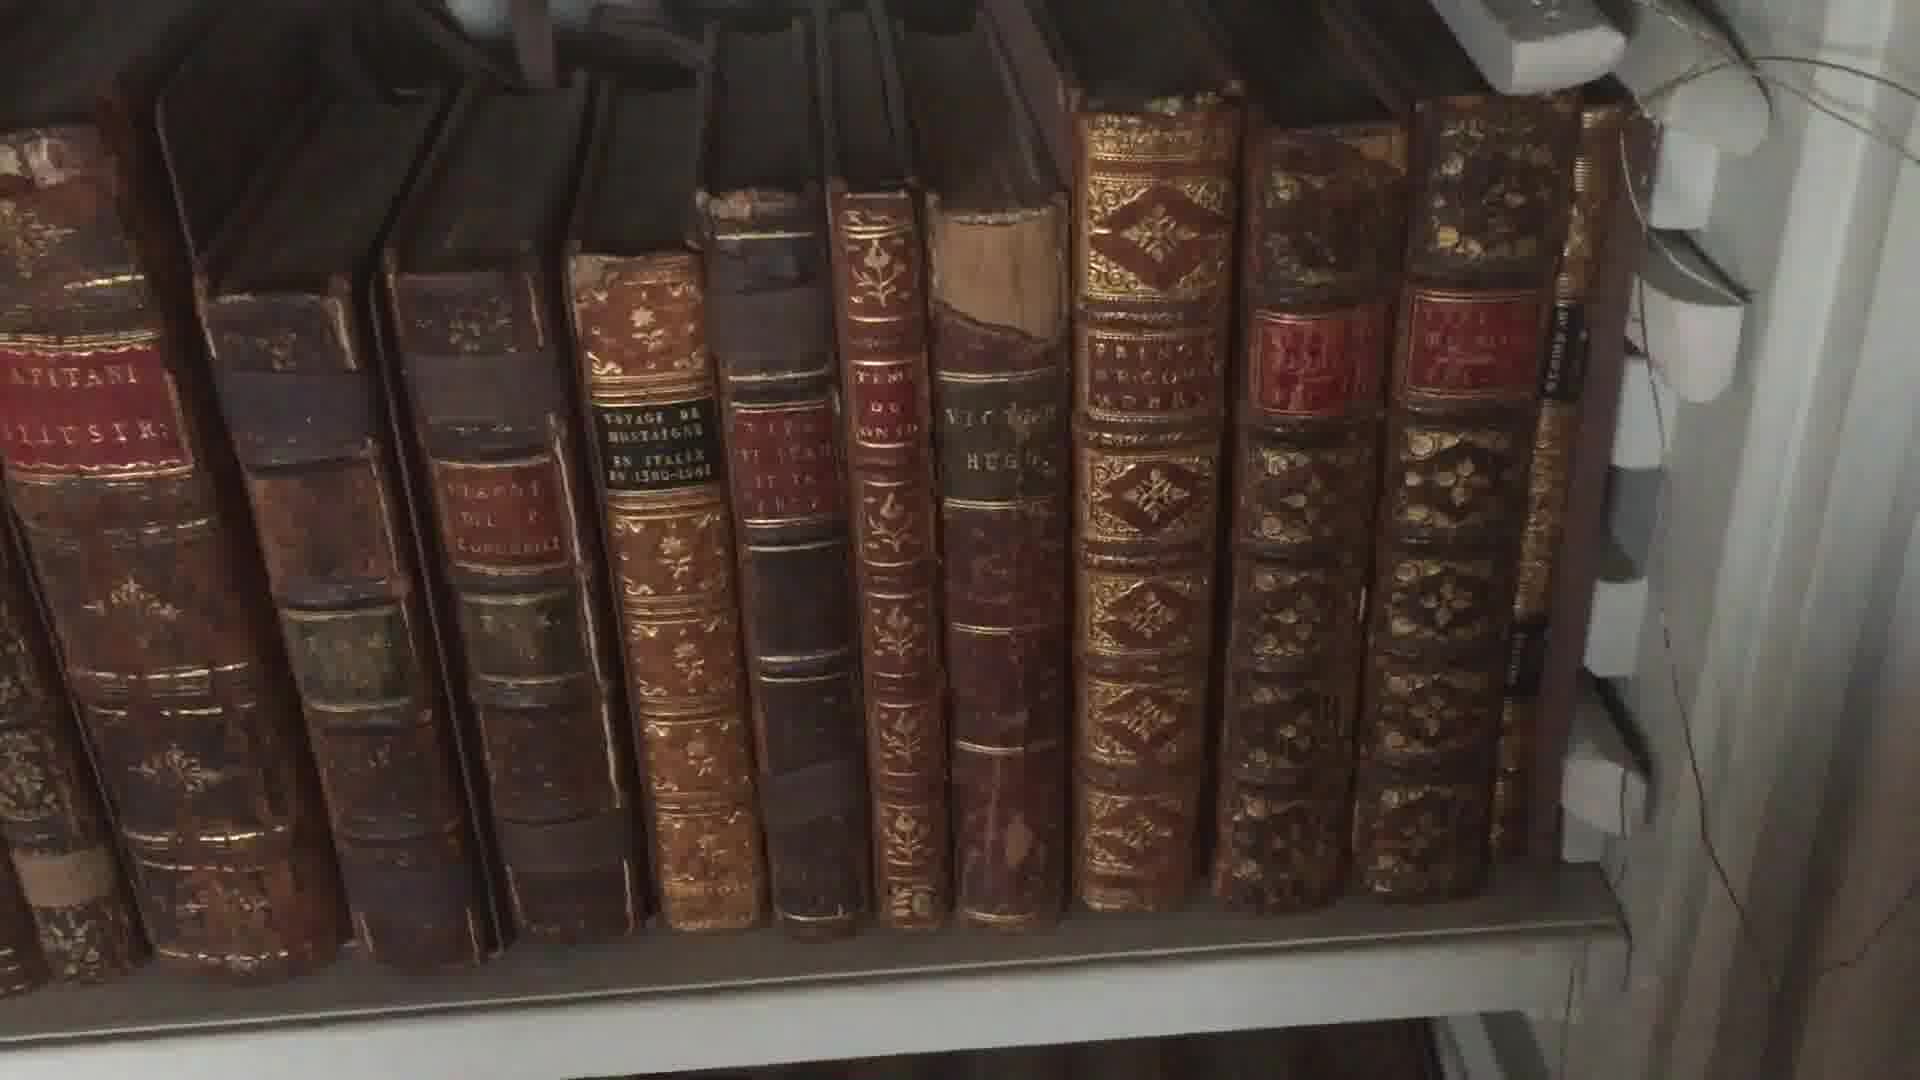Aa6-38: (18, 112, 309, 973)
Aa6-39_40: (179, 247, 658, 956)
Aa6-41: (563, 248, 777, 967)
Aa6-42: (680, 195, 894, 971)
Aa6-43: (822, 161, 982, 968)
Aa6-44: (914, 183, 1109, 928)
Aa6-45: (1054, 75, 1253, 905)
Aa6-46-47: (1238, 127, 1531, 916)
Aa6-48: (1485, 102, 1631, 916)
